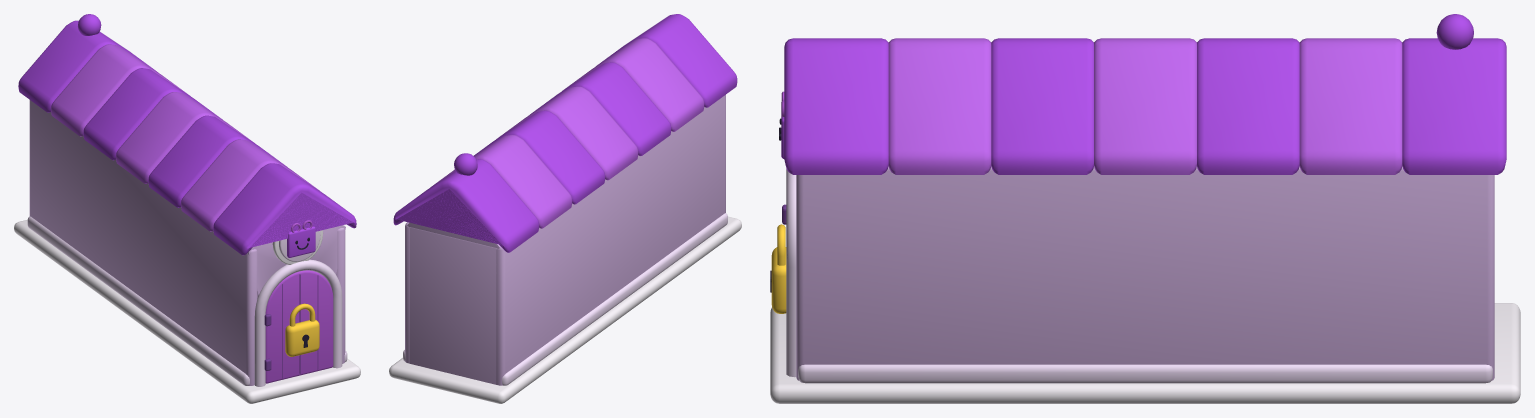
Rendered from locked-house-purple.fbx.
3 renders of one model, left to right at view 1: azimuth 30°, elevation 25°; view 2: azimuth 150°, elevation 25°; view 3: azimuth 270°, elevation 25°, orthographic. The views are drawn at different scales.
Visible parts, largest first — view 1: Body, Roof, Door, DoorFrame, Emblem, Padlock; view 2: Body, Roof; view 3: Body, Roof, DoorFrame, Padlock.
Boxes of the visible parts, x1,y1,x2,y2 form: Body: [14, 100, 360, 403]; Roof: [18, 14, 356, 255]; Door: [264, 270, 333, 383]; DoorFrame: [254, 259, 342, 386]; Emblem: [272, 220, 323, 264]; Padlock: [285, 320, 319, 356]; Body: [389, 95, 741, 403]; Roof: [393, 14, 737, 252]; Body: [770, 166, 1520, 403]; Roof: [784, 14, 1506, 174]; DoorFrame: [786, 169, 796, 377]; Padlock: [770, 247, 786, 313].
Size of the model in its own units: 1.28 by 2.35 by 4.6.
